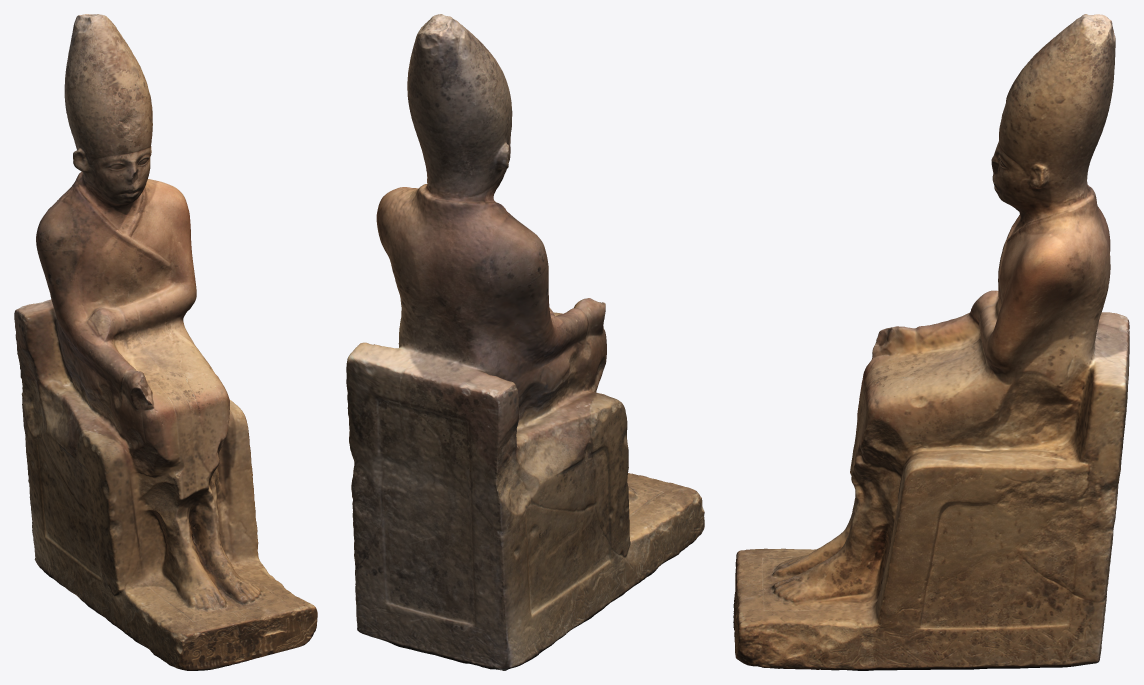
The model's file is statue_of_king_khasekhem.glb.
3 views of the same model, side by side, from view 1: azimuth 30°, elevation 25°; view 2: azimuth 150°, elevation 25°; view 3: azimuth 270°, elevation 25° (orthographic). The views are drawn at different scales.
Parts seen in each view (by area): view 1: Object_2, Object_4, Object_8, Object_5, Object_3, Object_7, Object_6; view 2: Object_6, Object_5, Object_7, Object_8, Object_3, Object_2, Object_4; view 3: Object_7, Object_4, Object_3, Object_2, Object_5, Object_8, Object_6.
Part boxes in pixels (<box>): Object_2: <box>36,14,196,322</box>; Object_4: <box>56,319,317,670</box>; Object_8: <box>50,308,257,619</box>; Object_5: <box>22,393,302,670</box>; Object_3: <box>36,14,315,647</box>; Object_7: <box>26,14,254,619</box>; Object_6: <box>14,15,79,565</box>; Object_6: <box>346,28,557,670</box>; Object_5: <box>347,394,704,670</box>; Object_7: <box>346,14,631,669</box>; Object_8: <box>518,298,644,650</box>; Object_3: <box>383,27,635,477</box>; Object_2: <box>376,14,550,345</box>; Object_4: <box>494,298,704,585</box>; Object_7: <box>744,14,1126,670</box>; Object_4: <box>733,324,1086,670</box>; Object_3: <box>735,15,1125,669</box>; Object_2: <box>980,14,1111,376</box>; Object_5: <box>733,430,1123,668</box>; Object_8: <box>769,314,1042,668</box>; Object_6: <box>999,14,1129,534</box>.
Bounding box in the file's own units: 1.67 × 5.78 × 3.38.
1 material, 1 textured.
